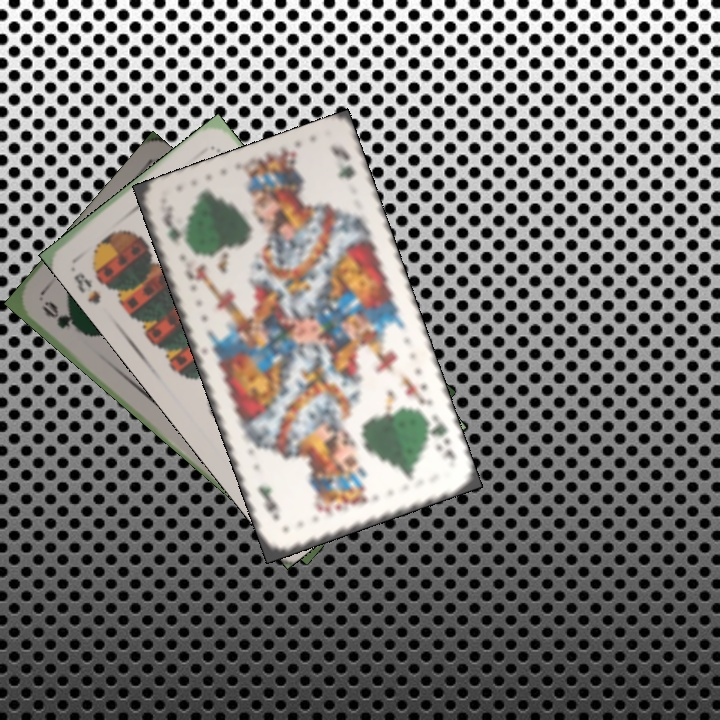GK: (421, 415, 459, 466), (161, 219, 191, 252)
GO: (38, 296, 88, 337)
S8: (69, 268, 103, 307)
